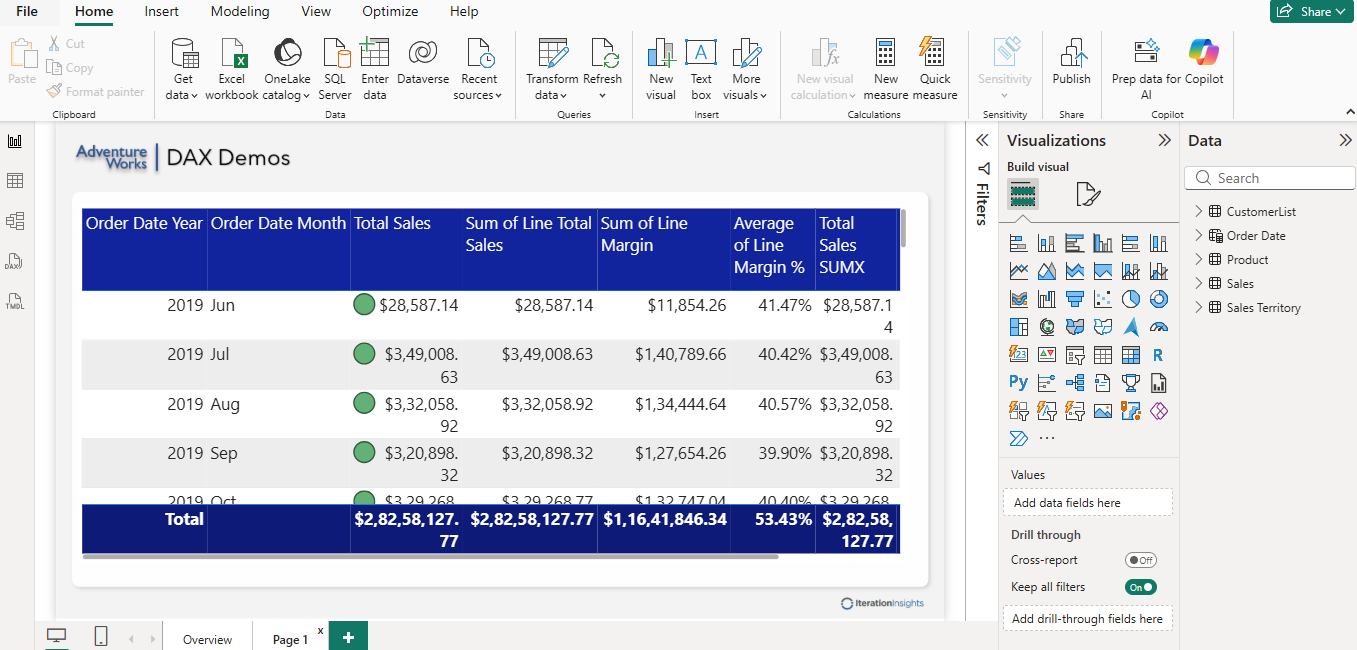

This screenshot's page, from the dashboard's own definition file:
{"tool":"powerbi","page":{"name":"Page 1","canvas":[1280,720],"ordinal":1},"visuals":[{"type":"tableEx","fields":{"Values":["Order Date.Order Date Year","Order Date.Order Date Month","Sales.Total Sales","Sum(Sales.Line Total Sales)","Sum(Sales.Line Margin)","Avg(Sales.Line Margin %)","Sales.Total Sales SUMX","Sales.Count no of rows","Sales.Distunct no of rows"]},"box":[31.7,121,1198.1,515.5],"z":0}]}

Visuals, with their boxes on the page's 1280x720 design canvas (x1, y1, x2, y2). These are canvas units, not pixel positions in the 1357x650 screenshot, which may show the page scaled, cropped or inside an application window:
tableEx - Order Date.Order Date Year x Order Date.Order Date Month: box(32, 121, 1230, 636)
